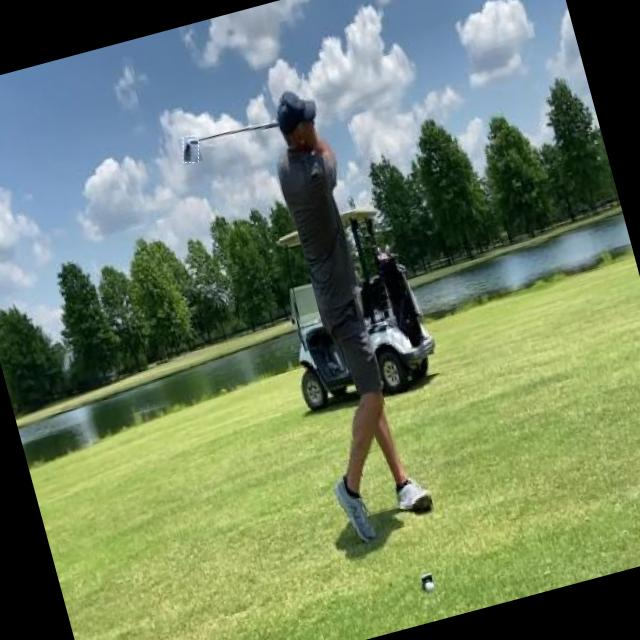club head: (178, 134, 202, 165)
